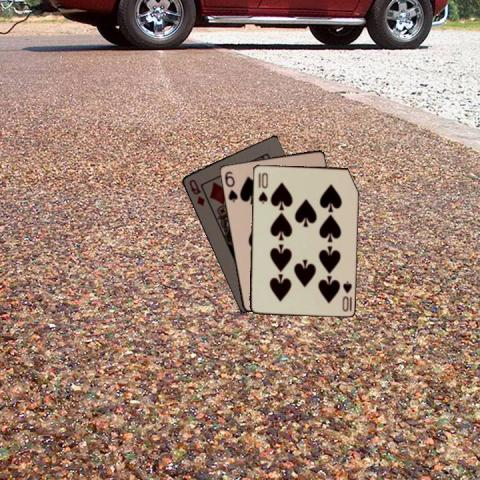10s: (256, 169, 270, 204), (339, 278, 353, 313)
6s: (221, 168, 239, 203)
Qd: (185, 176, 206, 208)
